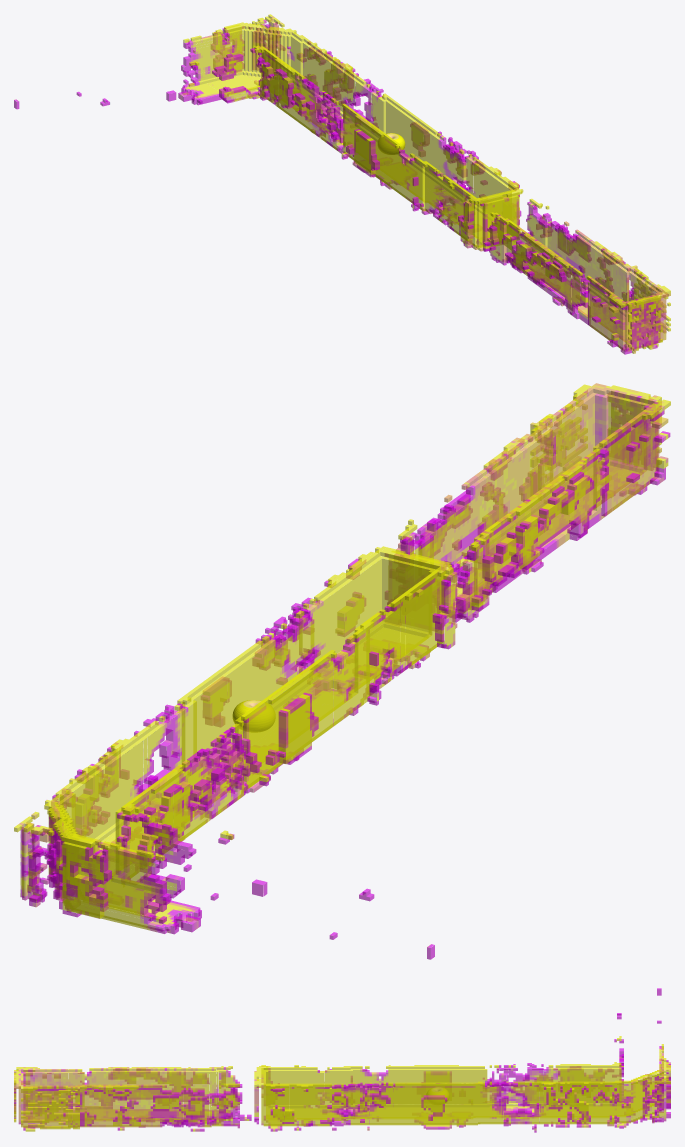
The model's file is test_chamber_spec_med_refr.glb.
The picture shows the model from 3 angles, top to bottom: view 1: azimuth 30°, elevation 25°; view 2: azimuth 150°, elevation 25°; view 3: azimuth 270°, elevation 25°; orthographic projection. The views are drawn at different scales.
Parts seen in each view (by area): view 1: chunk:0.031, chunk:3.026, chunk:4.016, chunk:1.027, chunk:2.026, chunk:5.015; view 2: chunk:0.031, chunk:4.016, chunk:1.027, chunk:3.026, chunk:5.015, chunk:2.026, Emitter-0 2232.000000MHz 2.000000w.031; view 3: chunk:3.026, chunk:4.016, chunk:0.031, chunk:1.027, chunk:5.015, chunk:2.026.
Part boxes in pixels (bbox=[...]): chunk:0.031: bbox=[14, 21, 432, 202]; chunk:3.026: bbox=[257, 14, 458, 192]; chunk:4.016: bbox=[435, 142, 642, 322]; chunk:1.027: bbox=[410, 153, 610, 330]; chunk:2.026: bbox=[592, 282, 643, 354]; chunk:5.015: bbox=[613, 271, 670, 349]; chunk:0.031: bbox=[36, 649, 434, 959]; chunk:4.016: bbox=[273, 417, 588, 700]; chunk:1.027: bbox=[314, 433, 615, 716]; chunk:3.026: bbox=[14, 621, 297, 906]; chunk:5.015: bbox=[542, 383, 638, 497]; chunk:2.026: bbox=[591, 391, 670, 511]; Emitter-0 2232.000000MHz 2.000000w.031: bbox=[232, 700, 275, 732]; chunk:3.026: bbox=[369, 1075, 670, 1132]; chunk:4.016: bbox=[68, 1075, 369, 1131]; chunk:0.031: bbox=[369, 988, 670, 1121]; chunk:1.027: bbox=[68, 1065, 369, 1121]; chunk:5.015: bbox=[14, 1075, 67, 1131]; chunk:2.026: bbox=[14, 1067, 67, 1119].
Bounding box in the file's own units: 11.6 × 2.2 × 27.9.
7 materials, 6 textured.
